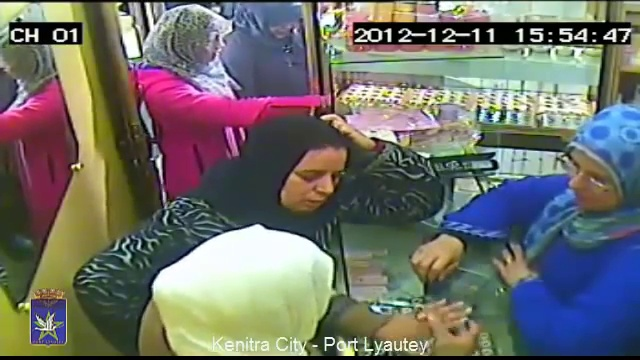face: (560, 148, 626, 211), (285, 157, 341, 210)
